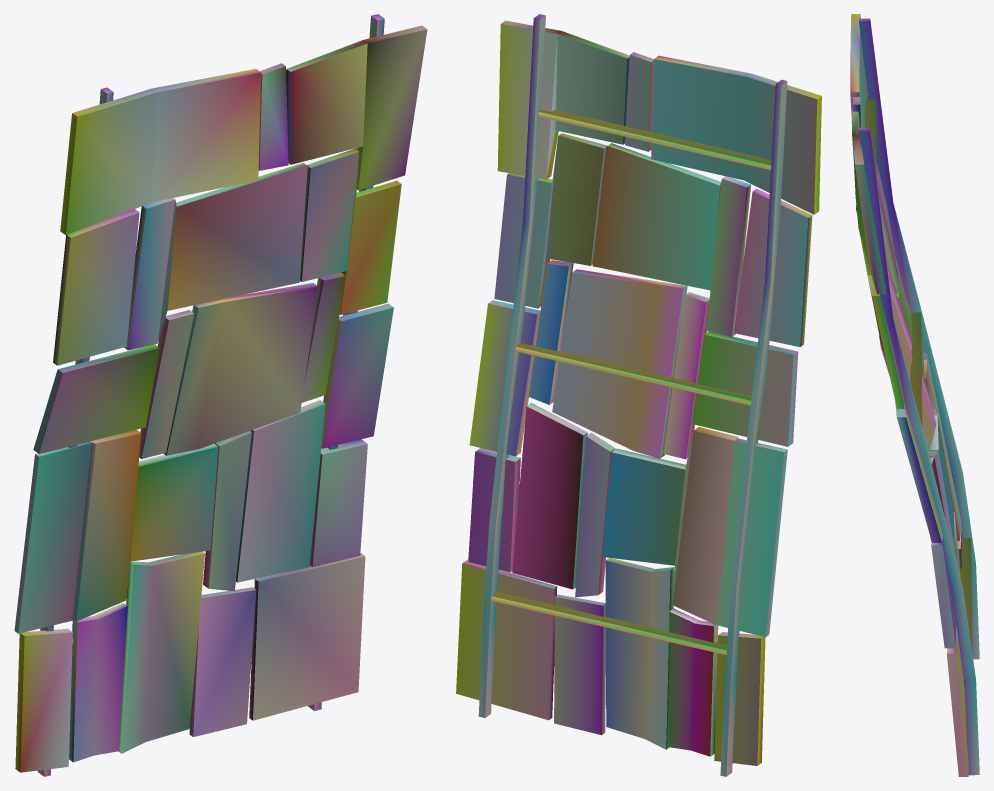
The model's file is Dock_Wide_RampStraightA.glb.
3 views of the same model, side by side, from view 1: azimuth 30°, elevation 25°; view 2: azimuth 150°, elevation 25°; view 3: azimuth 270°, elevation 25° (orthographic). The views are drawn at different scales.
Visible parts, largest first — view 1: MeshNode_0; view 2: MeshNode_0; view 3: MeshNode_0.
Boxes of the visible parts, left/top/right/bottom form: MeshNode_0: left=14, top=14, right=427, bottom=776; MeshNode_0: left=456, top=14, right=821, bottom=776; MeshNode_0: left=850, top=14, right=979, bottom=776.
Size of the model in its own units: 33.29 by 65.69 by 11.95.
